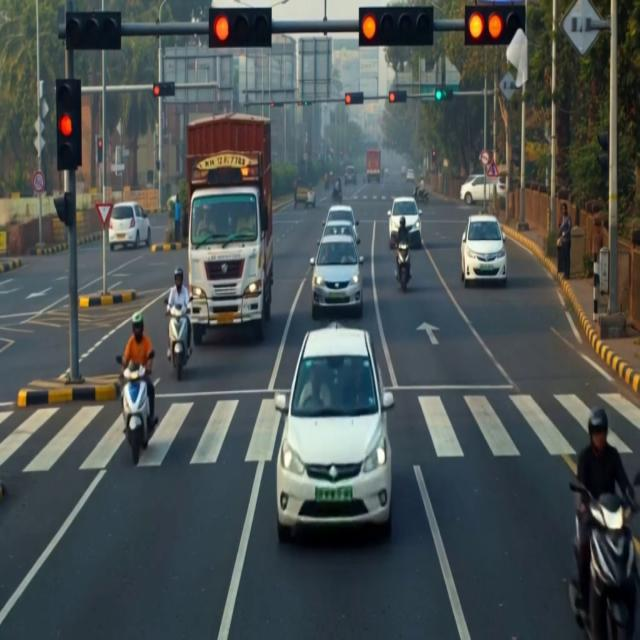car: (275, 323, 394, 543), (310, 235, 363, 319), (461, 215, 506, 287), (108, 201, 151, 250), (388, 197, 421, 248), (460, 175, 505, 205), (323, 205, 358, 238), (322, 220, 360, 244), (294, 185, 315, 207), (344, 165, 357, 186), (406, 169, 414, 182), (401, 166, 407, 176)
scooty: (570, 482, 638, 639), (121, 363, 154, 465), (169, 304, 189, 381), (396, 243, 410, 292), (413, 187, 428, 203), (332, 189, 342, 203)
traffic signal: (359, 6, 433, 47), (465, 5, 525, 46), (209, 8, 271, 47), (56, 79, 81, 171), (65, 12, 121, 50), (54, 192, 74, 228), (597, 131, 609, 174), (153, 82, 175, 98), (345, 92, 363, 105), (435, 88, 453, 101), (389, 91, 407, 103), (96, 136, 102, 163), (297, 100, 312, 106), (431, 148, 437, 162), (270, 102, 284, 108), (270, 102, 275, 108), (297, 102, 302, 106)
truck: (186, 113, 273, 345), (366, 148, 381, 183)
